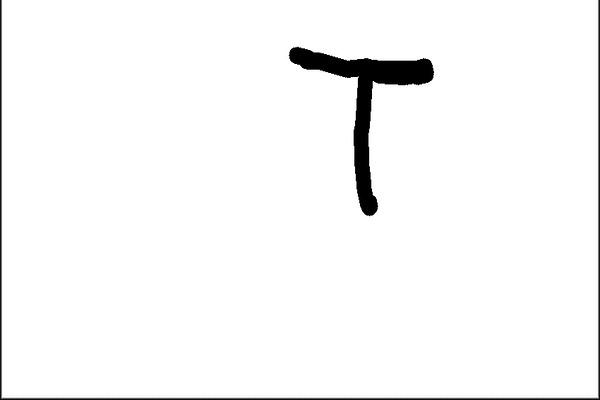T: (283, 36, 439, 217)
